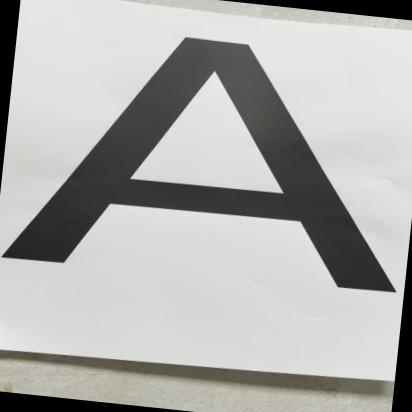seat: (0, 7, 412, 340)
